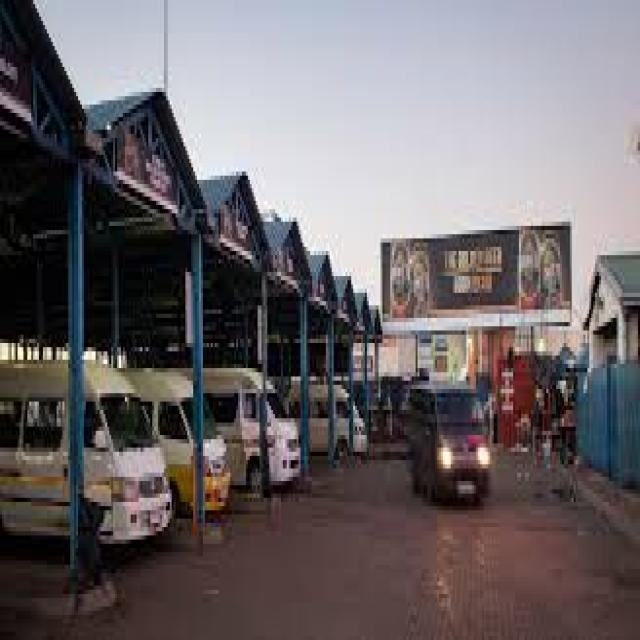MiniBus taxi: (91, 372, 178, 548), (240, 368, 304, 494), (188, 385, 230, 514)
